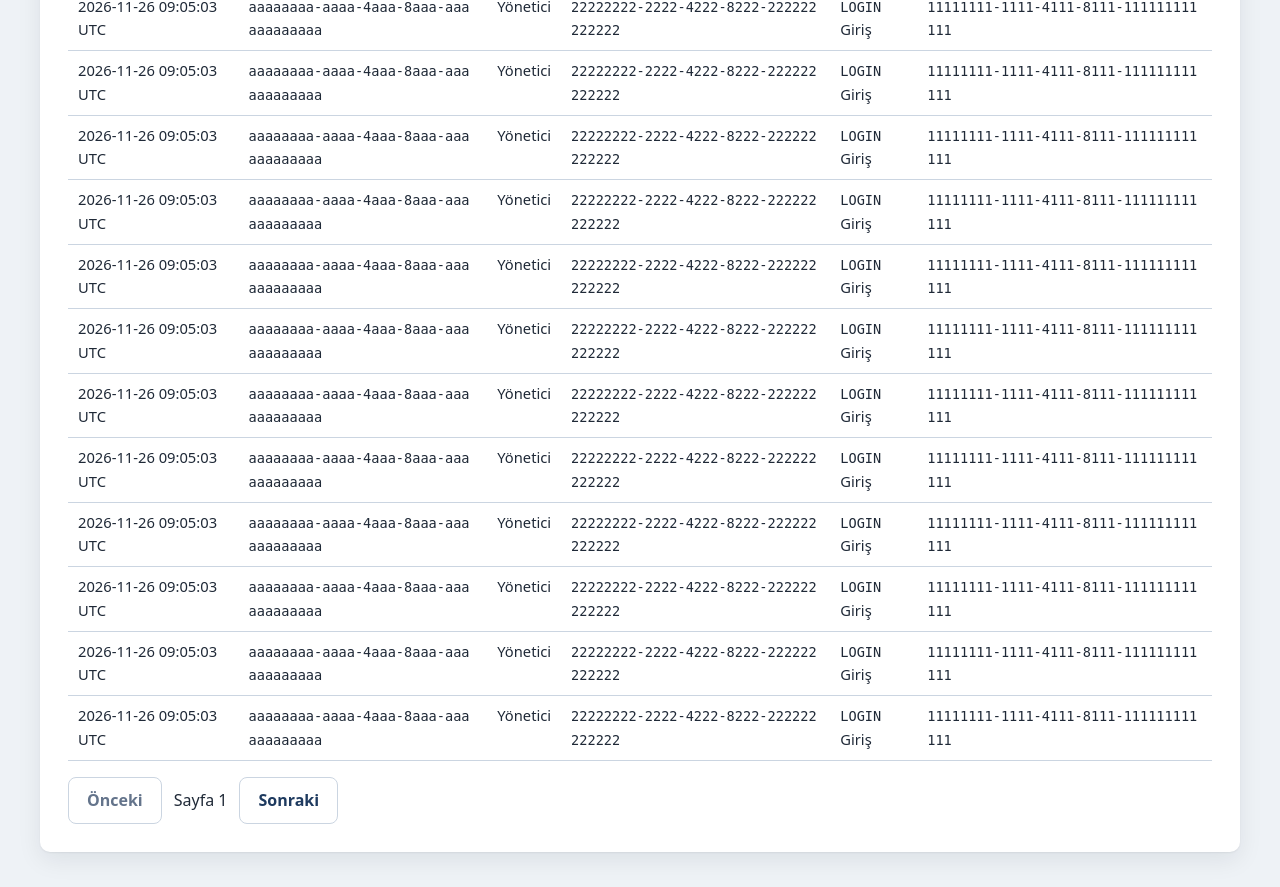
Test: AuditLogPage › keeps the filters when paging
(page scrolled)
What coordinates should you click on to do the following:
click the button "Sonraki"
I would click on:
 (289, 800)
Its box is [240,777,338,824].
(page scrolled)
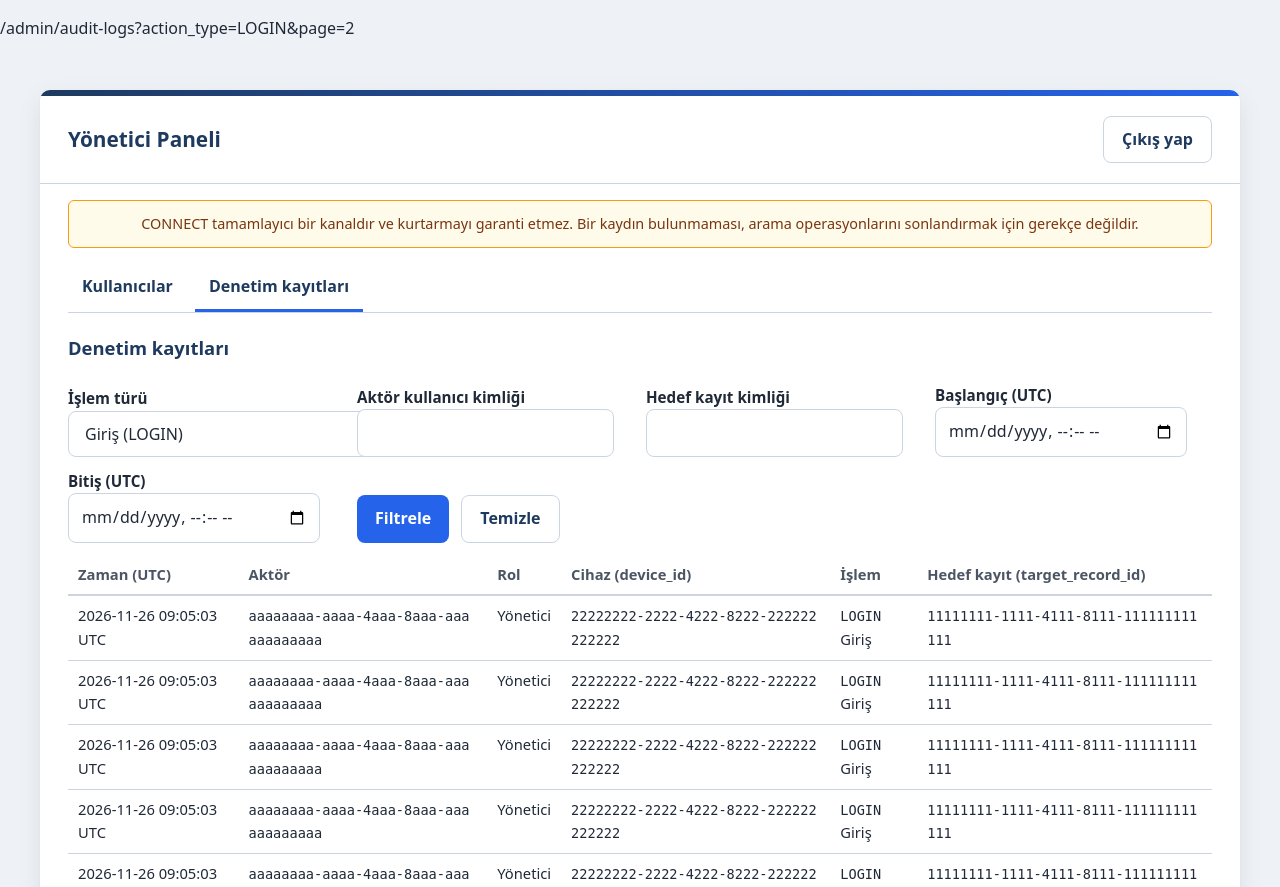
expect the text with test id "location" reads "/admin/audit-logs?action_type=LOGIN&page=2": met, box [0,17,354,39]
